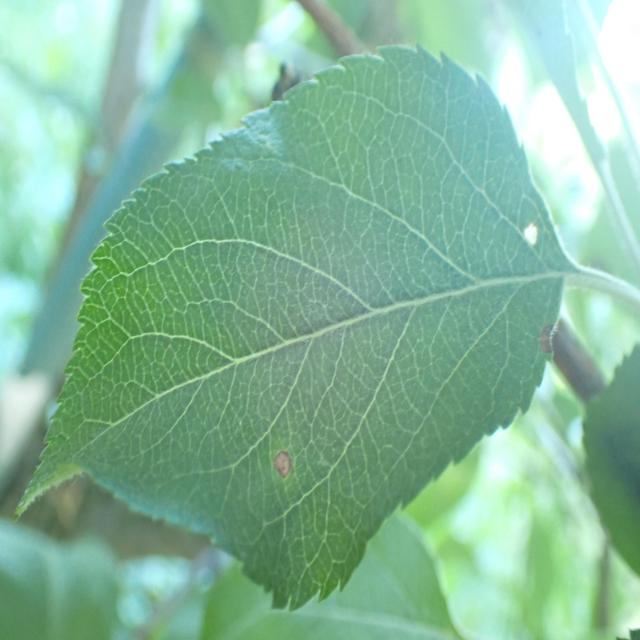Black Rot: (492, 170, 549, 292), (267, 412, 301, 510)
